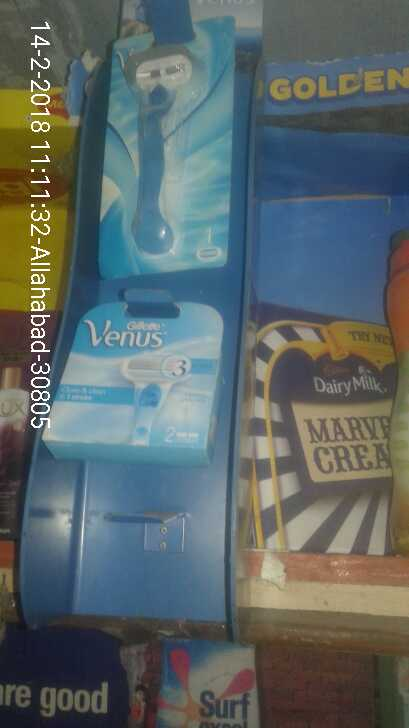venus: (100, 31, 228, 272), (55, 298, 224, 466)
